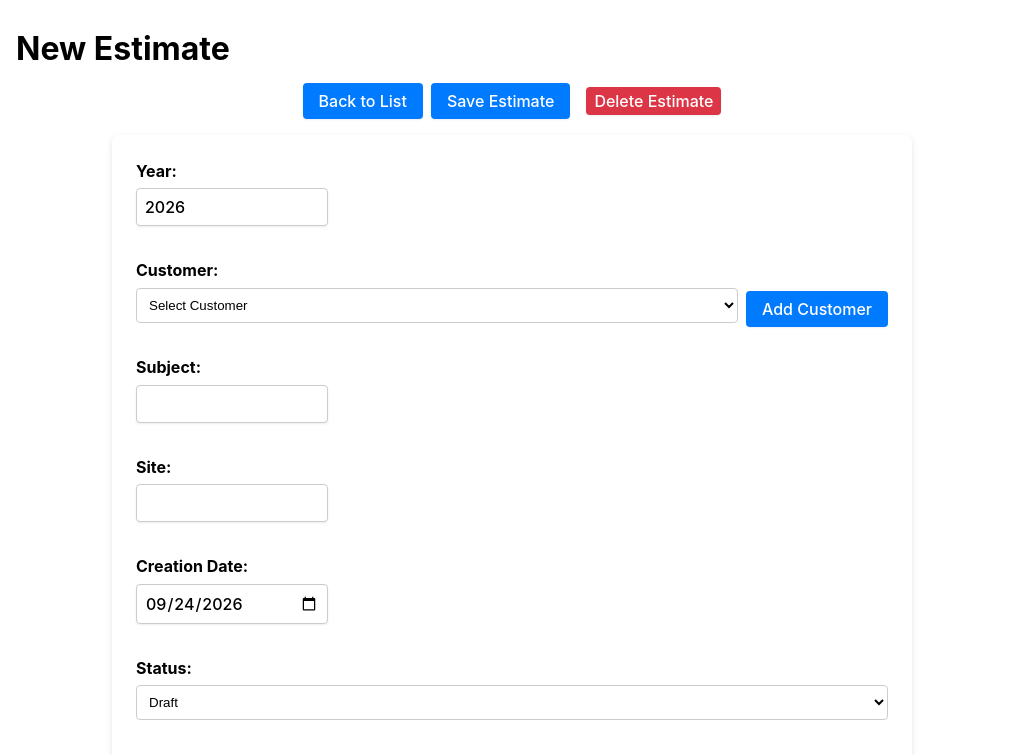
Test case: EstimateEditorPage — inline customer creation and single save notification › adding a customer inline (no customer selected) › creates the customer, selects it, and hides the button once one is chosen
The image size is (1024, 755).
Click the button "Add Customer". click: click(817, 309)
box: [746,291,888,327]
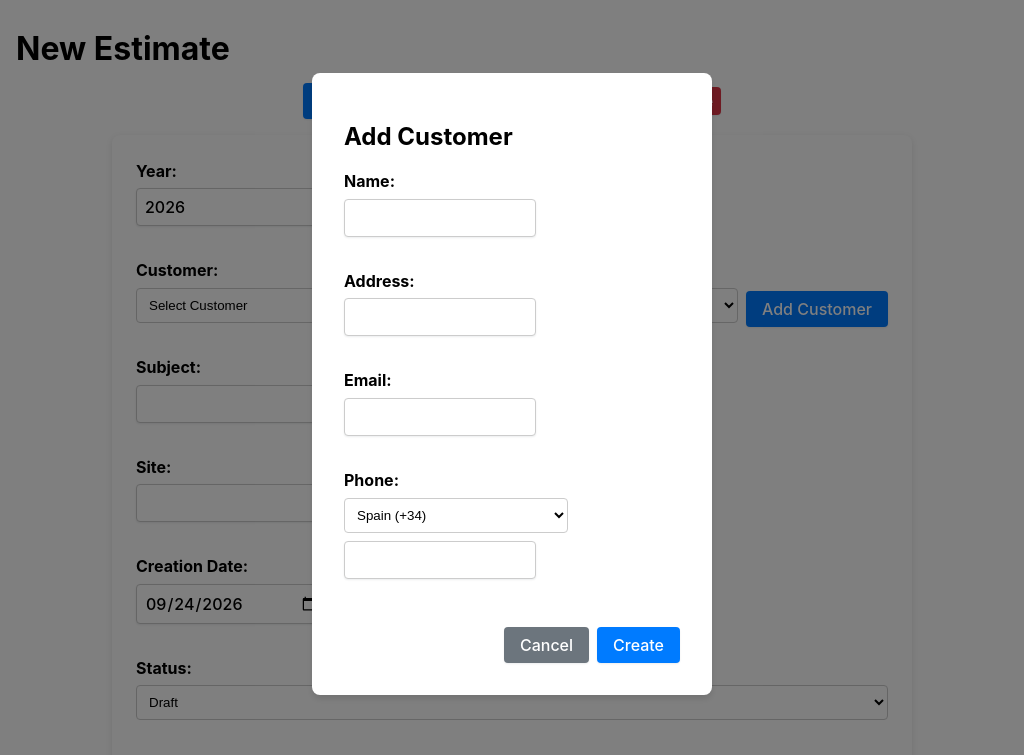
# The inline modal has its own Name/Address/Email fields.
Type "Marta Puig" into the field labelled "Name:". click: (440, 218)
box: [344,199,536,237]
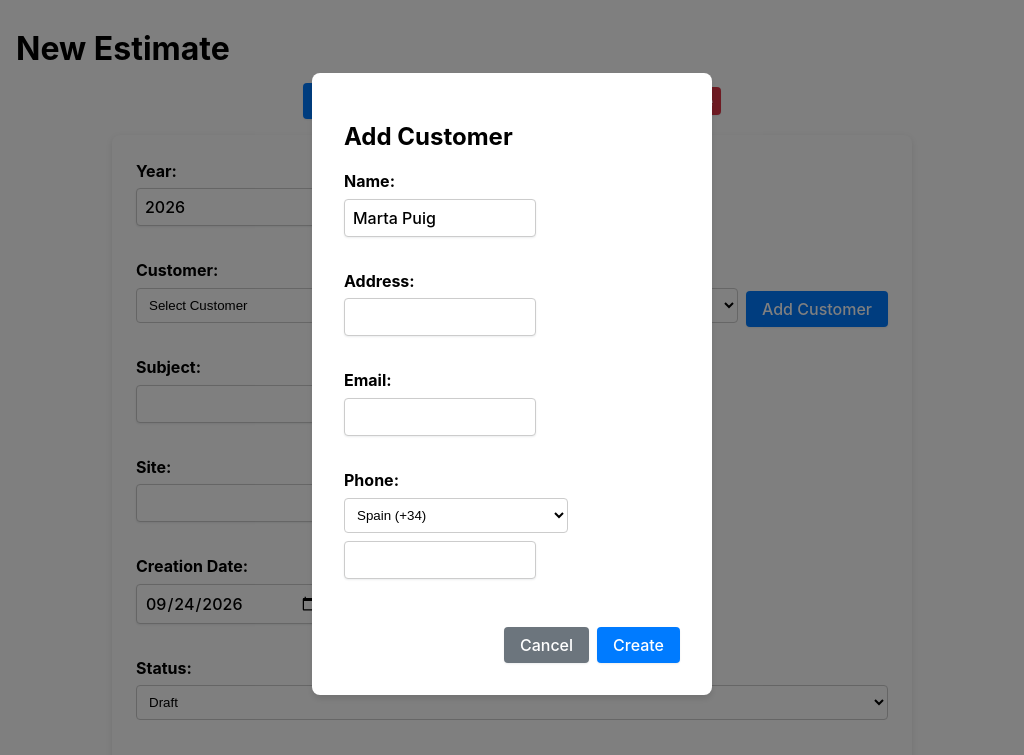
Type "Carrer de Mallorca 245" into the field labelled "Address:". click: (440, 317)
box: [344,298,536,336]
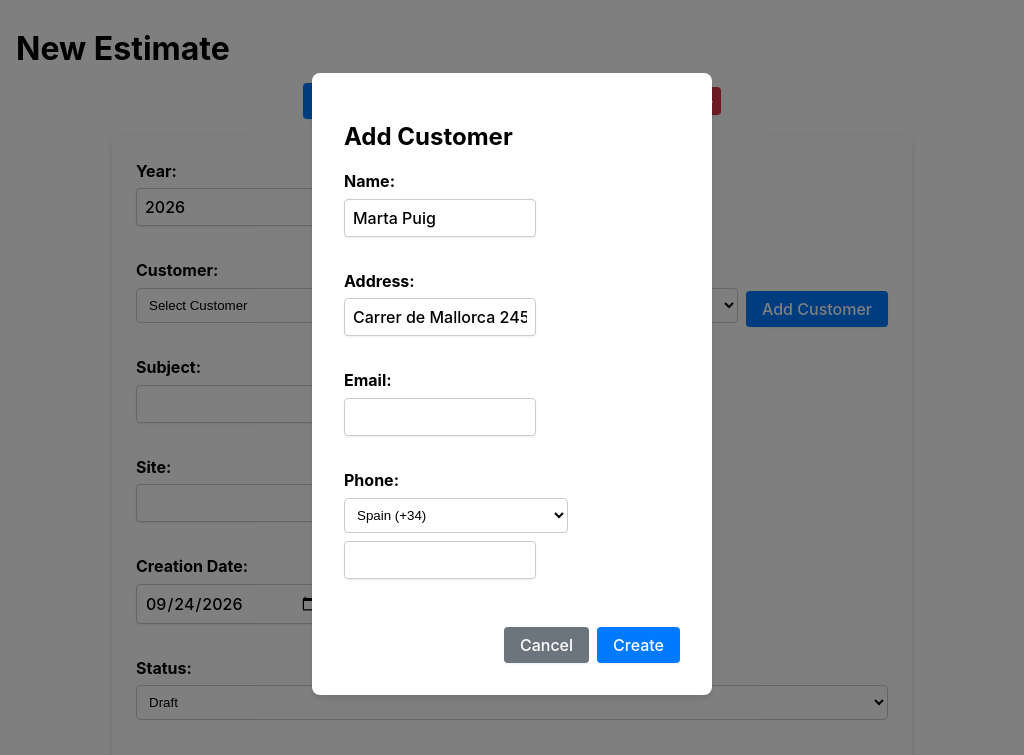
Type "marta@example.com" into the field labelled "Email:". click: (440, 417)
box: [344,398,536,436]
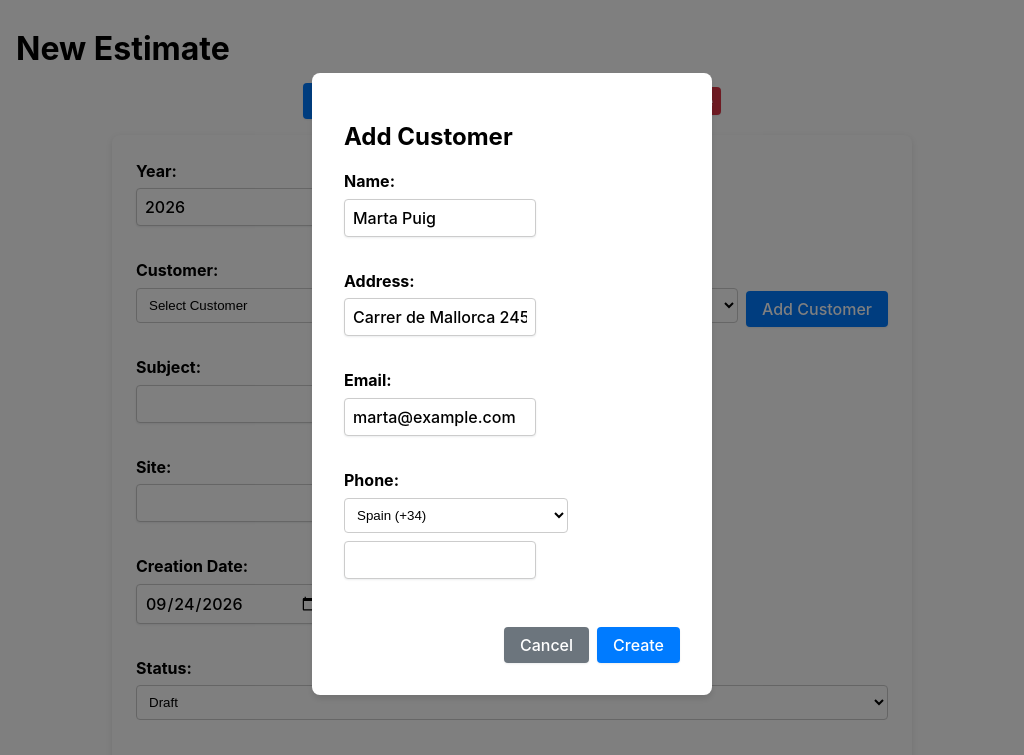
Click the button "Create". click: click(638, 645)
box: [597,627,680,663]
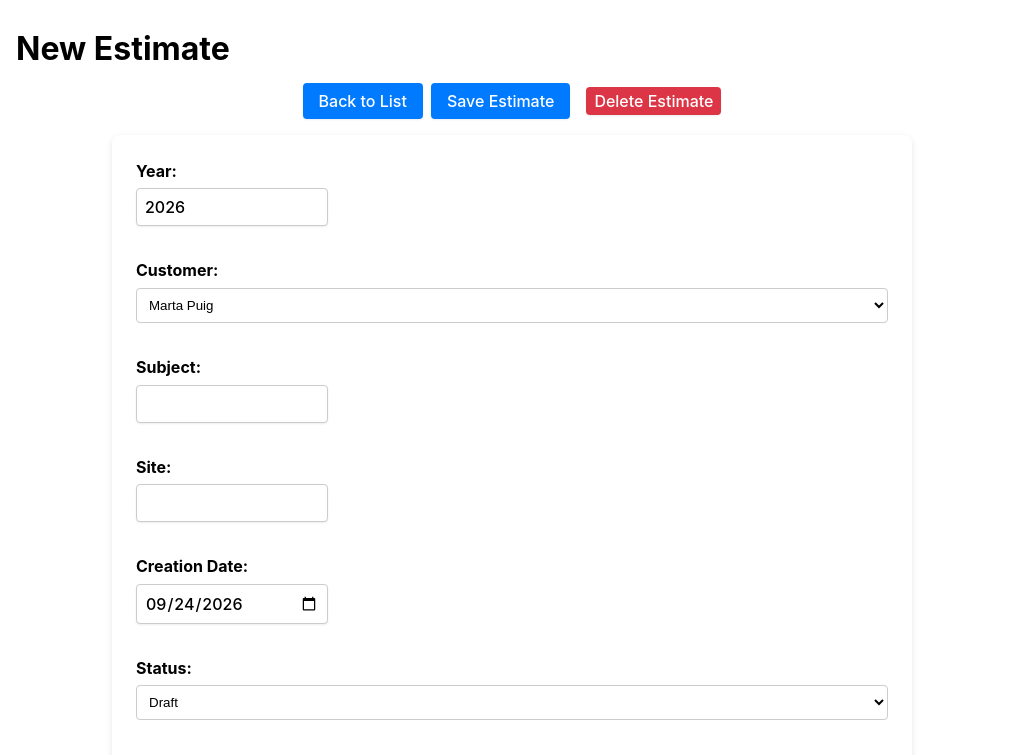
Now the button "Add Customer" is gone
Now the dropdown labelled "Customer:" shows "Marta Puig", box [136,288,888,323]
